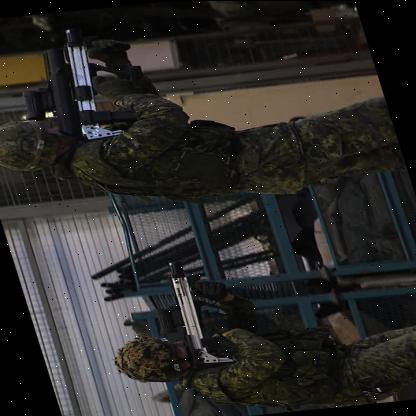rifle: (21, 24, 144, 140), (156, 256, 236, 366)
